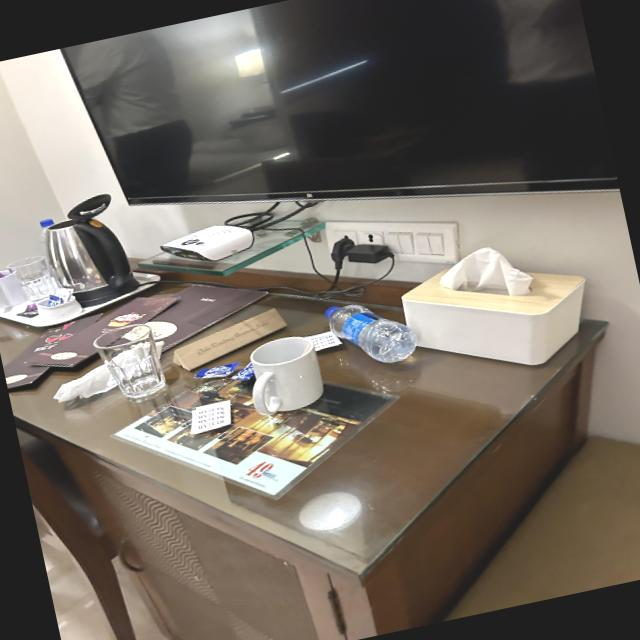mess: (0, 115, 607, 590)
